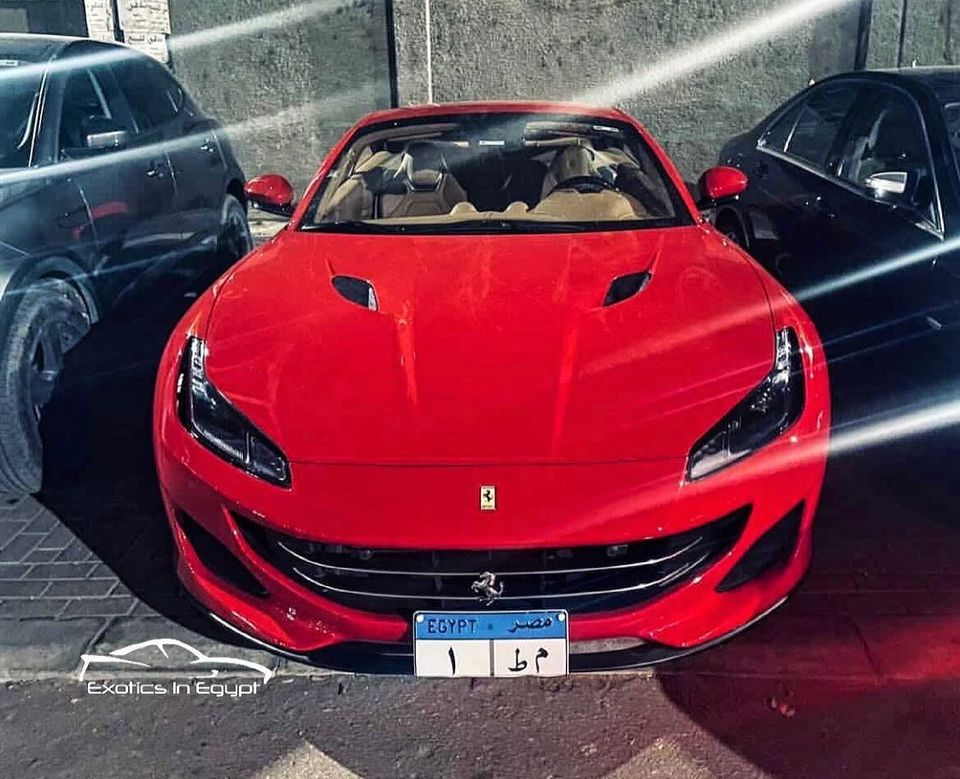carpl: (411, 608, 569, 680)
